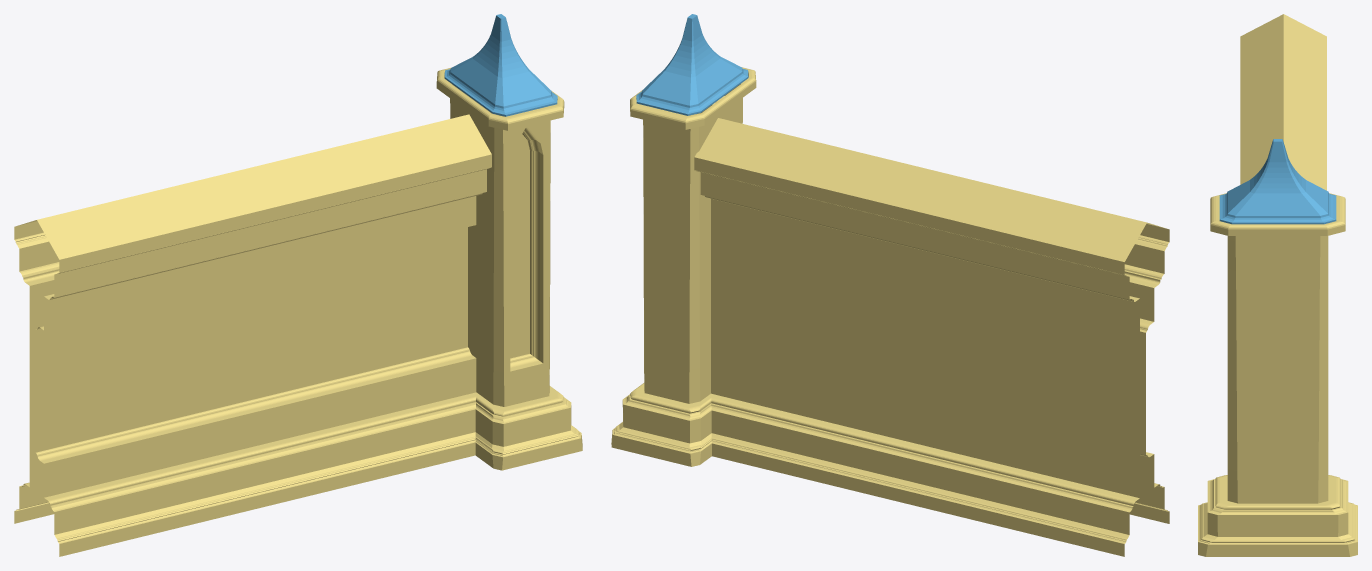
Rendered from weiqiang1.FBX.
3 renders of one model, left to right at view 1: azimuth 30°, elevation 25°; view 2: azimuth 150°, elevation 25°; view 3: azimuth 270°, elevation 25°, orthographic. The views are drawn at different scales.
Visible parts, largest first — view 1: 对象019, 对象020; view 2: 对象019, 对象020; view 3: 对象019, 对象020.
Part boxes in pixels (x1,y1,x2,y2): 对象019: (14,68,582,556); 对象020: (444,14,557,116); 对象019: (611,67,1169,556); 对象020: (636,14,748,115); 对象019: (1198,14,1357,556); 对象020: (1219,139,1336,224).
Size of the model in its own units: 6.86 by 5.37 by 1.97.
